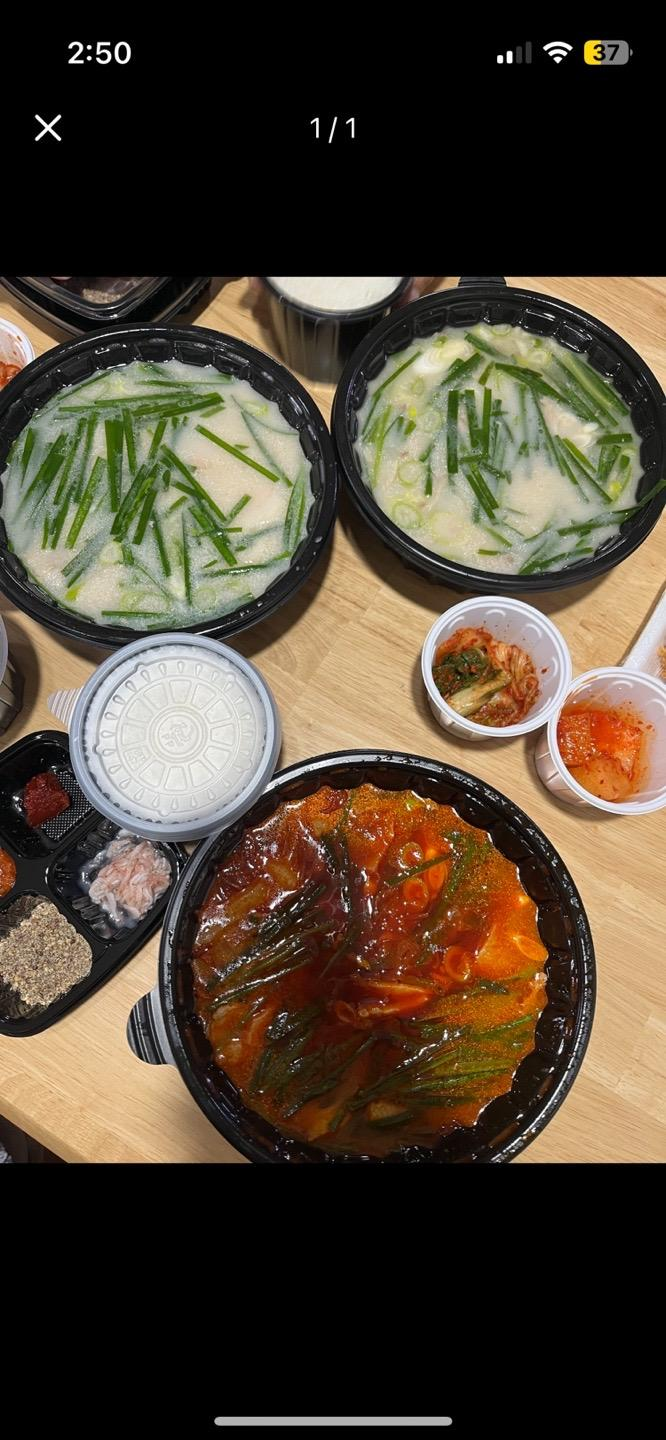Lunch Box: (129, 751, 595, 1162), (0, 326, 337, 649), (331, 278, 665, 593), (0, 732, 186, 1034), (0, 276, 210, 334)
cup: (48, 633, 281, 841), (421, 596, 571, 739), (535, 666, 665, 813), (261, 277, 411, 382)
